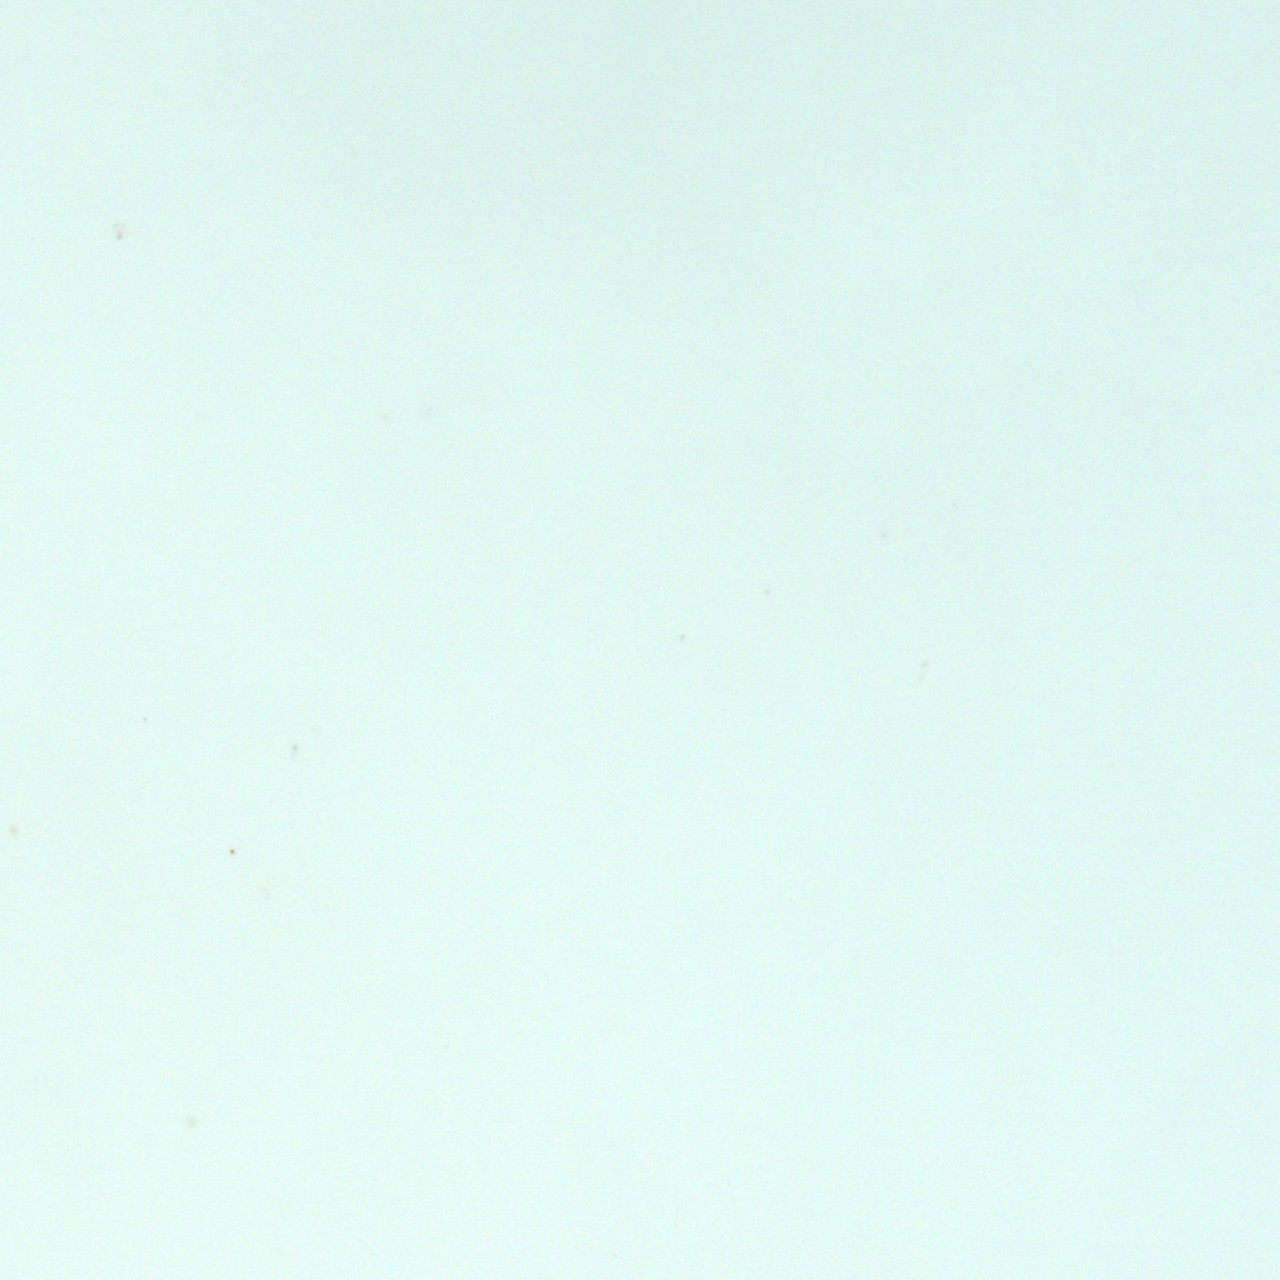dust: (227, 847, 238, 856)
